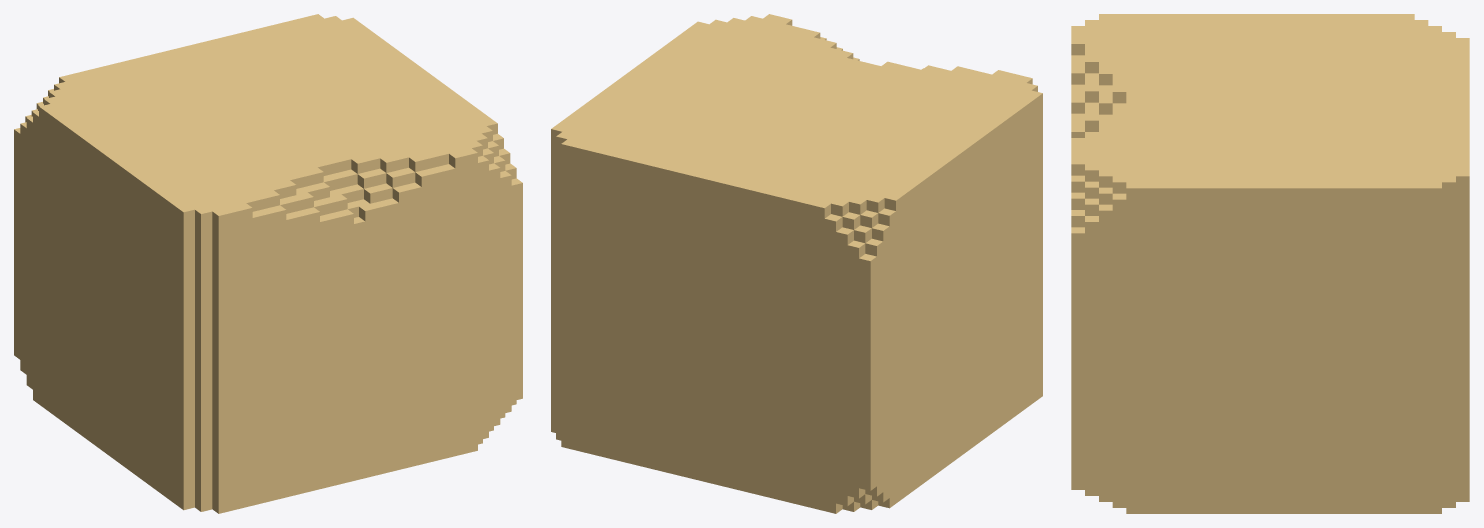
The model's file is BrickV2.fbx.
The picture shows the model from 3 angles, left to right: view 1: azimuth 30°, elevation 25°; view 2: azimuth 150°, elevation 25°; view 3: azimuth 270°, elevation 25°; orthographic projection. The views are drawn at different scales.
Visible parts, largest first — view 1: BrickV2; view 2: BrickV2; view 3: BrickV2.
Part boxes in pixels (x1=…): BrickV2: x1=14, y1=14, x2=522, y2=513; BrickV2: x1=551, y1=14, x2=1042, y2=513; BrickV2: x1=1071, y1=14, x2=1469, y2=513.
Bounding box in the file's own units: 0.4624 × 0.4464 × 0.4028.
